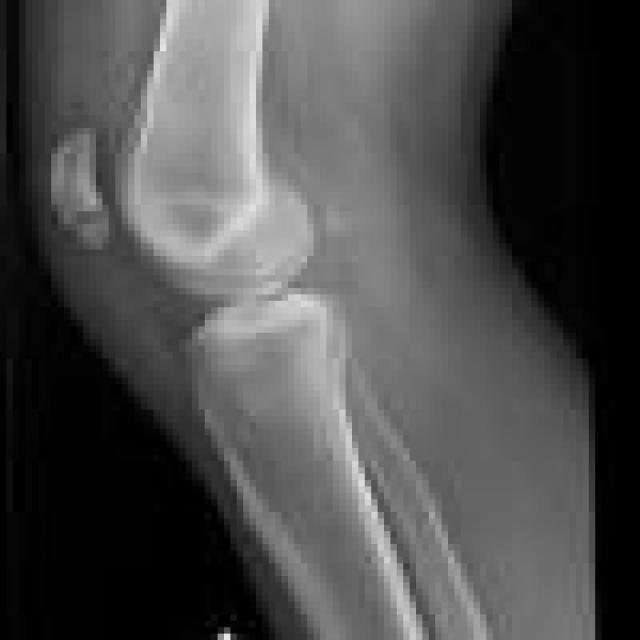Hairline: (48, 116, 174, 286)
